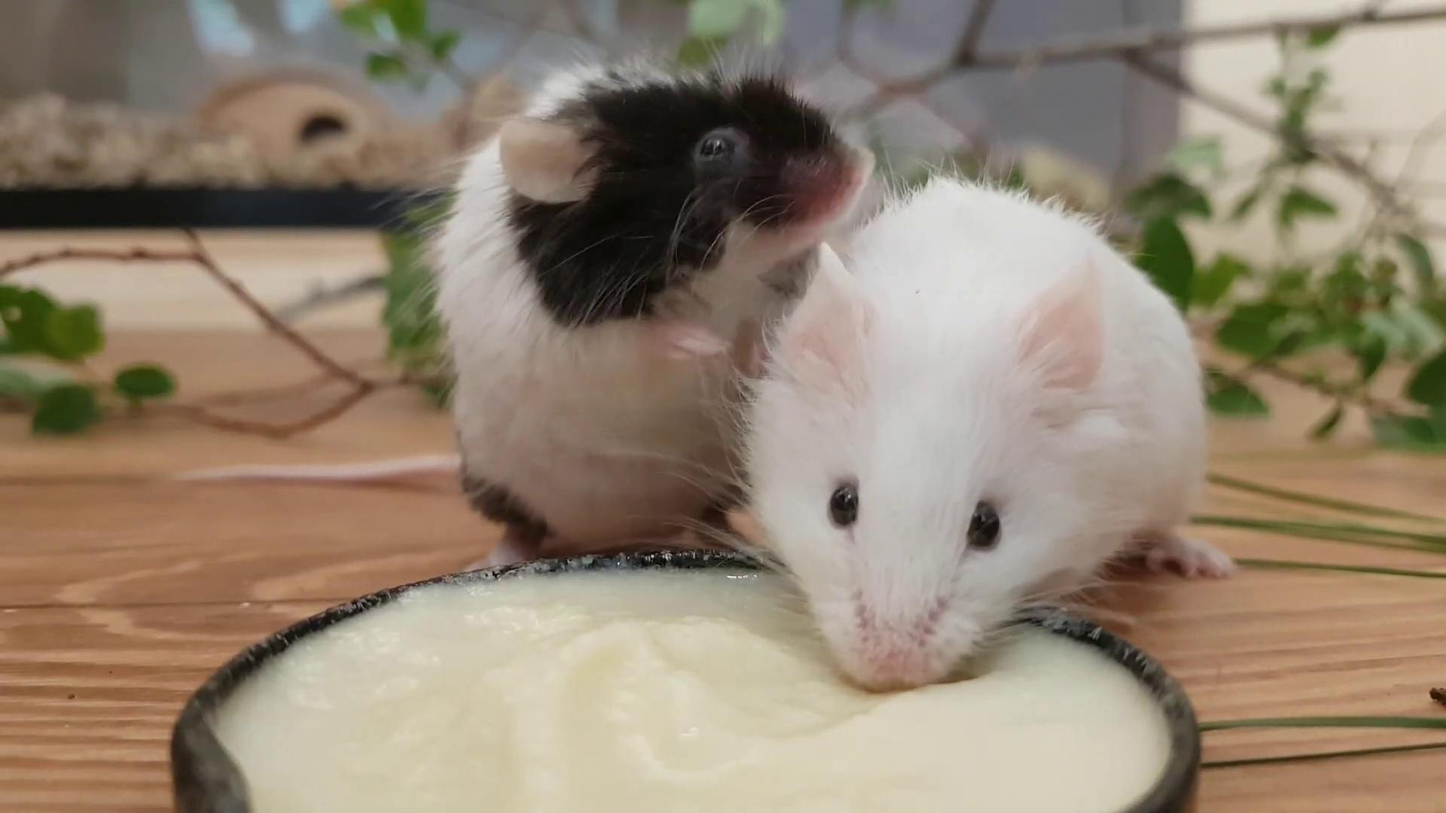mouse: (744, 172, 1231, 693), (432, 65, 862, 554)
